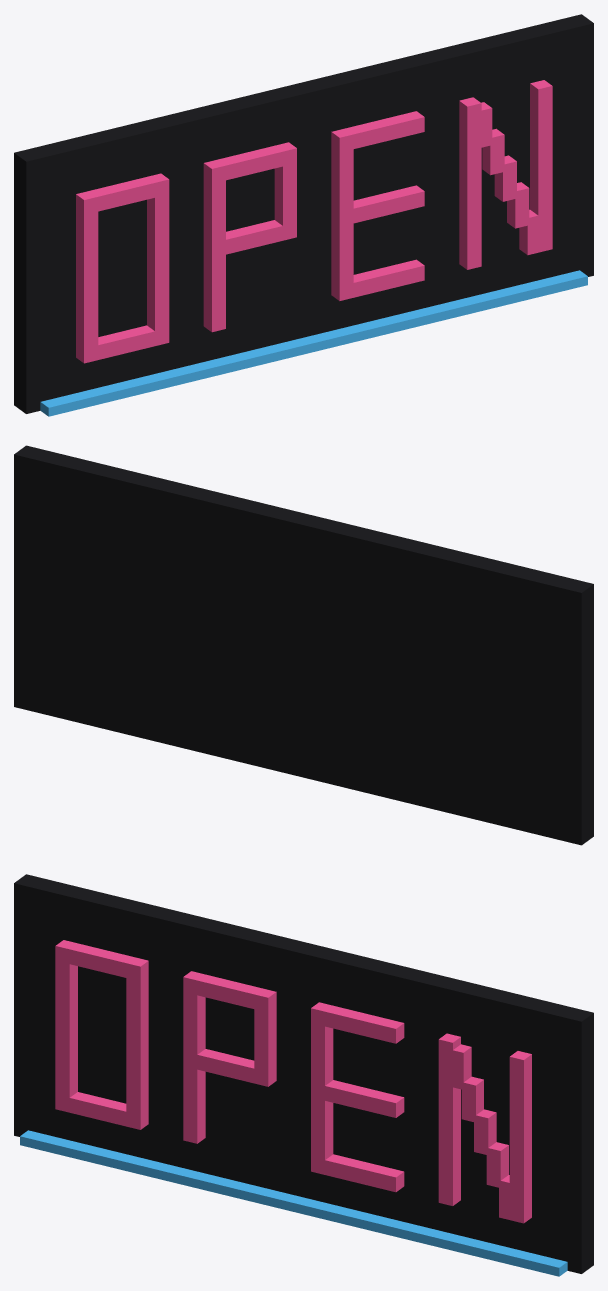
File: neon_open_sign.obj
3 views of the same model, one above another, from view 1: azimuth 30°, elevation 25°; view 2: azimuth 150°, elevation 25°; view 3: azimuth 330°, elevation 25° (orthographic).
Visible parts, largest first — view 1: neon_open_sign; view 2: neon_open_sign; view 3: neon_open_sign.
Part boxes in pixels (x1,y1,x2,y2): neon_open_sign: (14, 14, 593, 416); neon_open_sign: (14, 445, 593, 845); neon_open_sign: (14, 874, 593, 1276).
Bounding box in the file's own units: 0.8 × 0.34 × 0.05.
